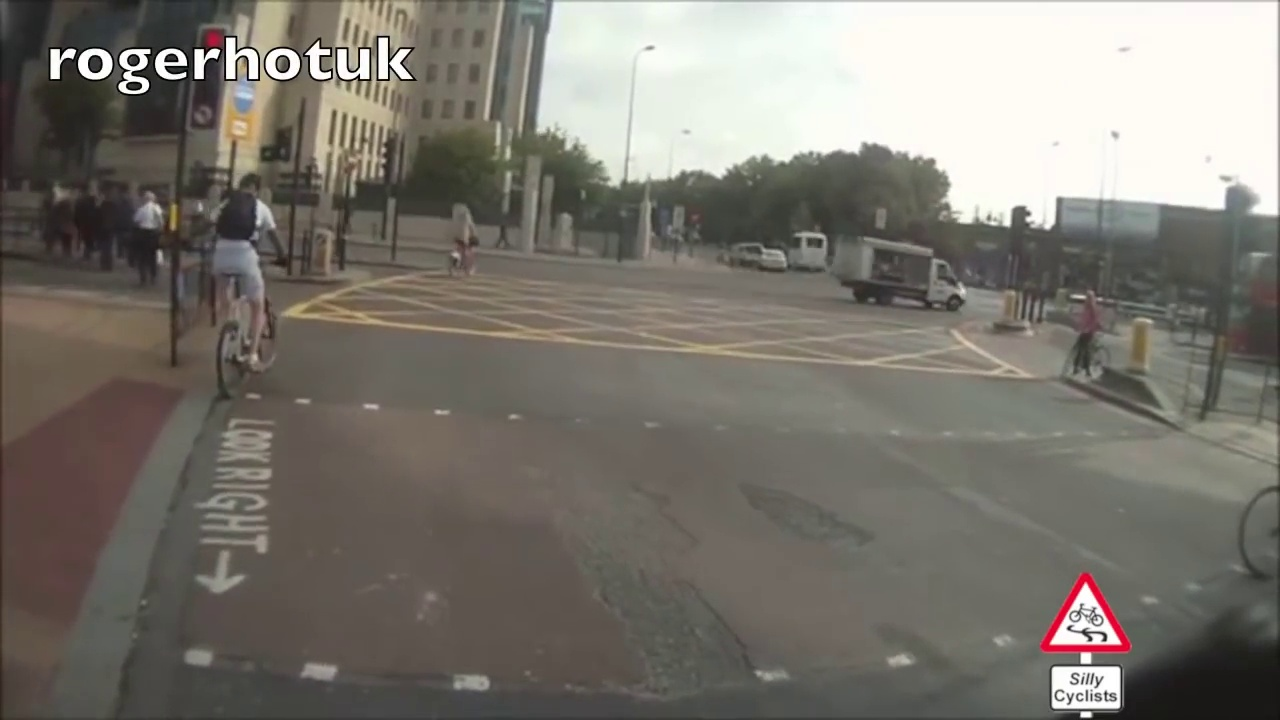cyclist_back: (208, 166, 297, 400), (431, 194, 481, 285)
